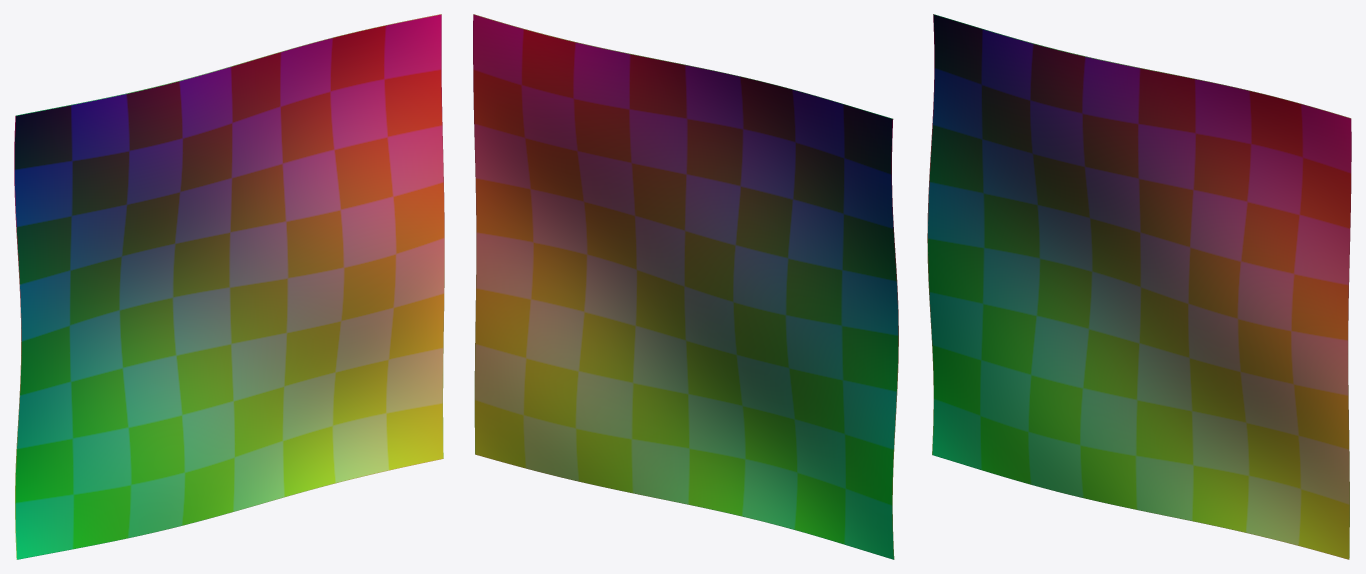
File: Tile_+007_+020.obj
3 renders of one model, left to right at view 1: azimuth 30°, elevation 25°; view 2: azimuth 150°, elevation 25°; view 3: azimuth 330°, elevation 25°, orthographic.
Size of the model in its own units: 100 by 100 by 5.65.
